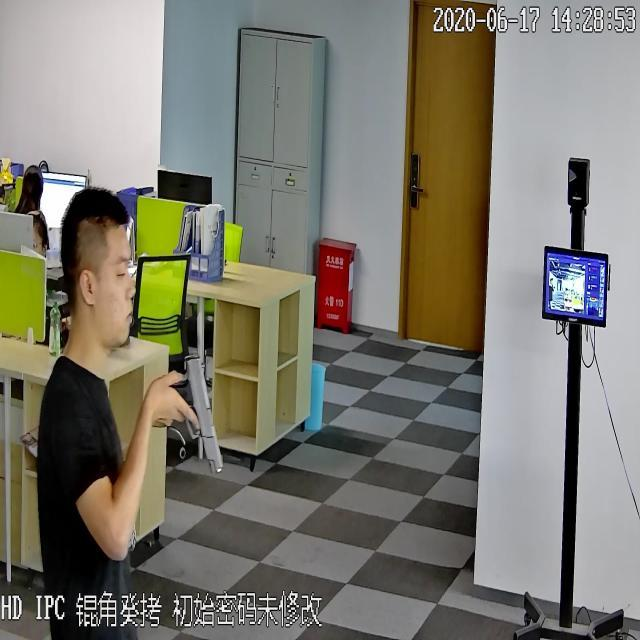gun-knife-thesis - v11 Yolov5 augmented: (155, 349, 224, 480)
